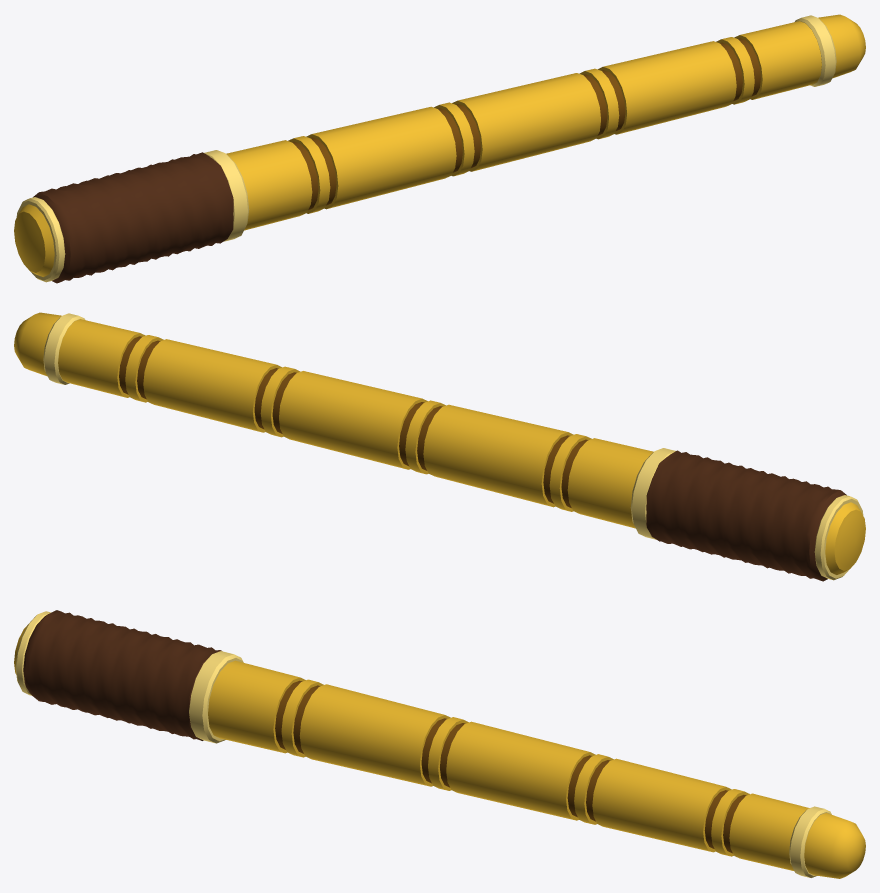
Rendered from danda-golden.glb.
3 views of the same model, one above another, from view 1: azimuth 30°, elevation 25°; view 2: azimuth 150°, elevation 25°; view 3: azimuth 330°, elevation 25° (orthographic).
Parts seen in each view (by area): view 1: DandaGolden_Plate, DandaGolden_Grip, DandaGolden_Rings, DandaGolden_Engraving; view 2: DandaGolden_Plate, DandaGolden_Grip, DandaGolden_Rings, DandaGolden_Engraving; view 3: DandaGolden_Plate, DandaGolden_Grip, DandaGolden_Rings, DandaGolden_Engraving.
Boxes of the visible parts, <box> form: DandaGolden_Plate: <box>14,14,865,276</box>; DandaGolden_Grip: <box>33,152,233,283</box>; DandaGolden_Rings: <box>16,15,836,282</box>; DandaGolden_Engraving: <box>291,38,760,210</box>; DandaGolden_Plate: <box>14,312,865,574</box>; DandaGolden_Grip: <box>646,450,846,581</box>; DandaGolden_Rings: <box>43,313,863,580</box>; DandaGolden_Engraving: <box>119,336,588,508</box>; DandaGolden_Plate: <box>14,625,865,878</box>; DandaGolden_Grip: <box>23,610,221,740</box>; DandaGolden_Rings: <box>15,611,831,877</box>; DandaGolden_Engraving: <box>275,680,746,853</box>.
Size of the model in its own units: 4.6 by 0.4486 by 0.4486.
